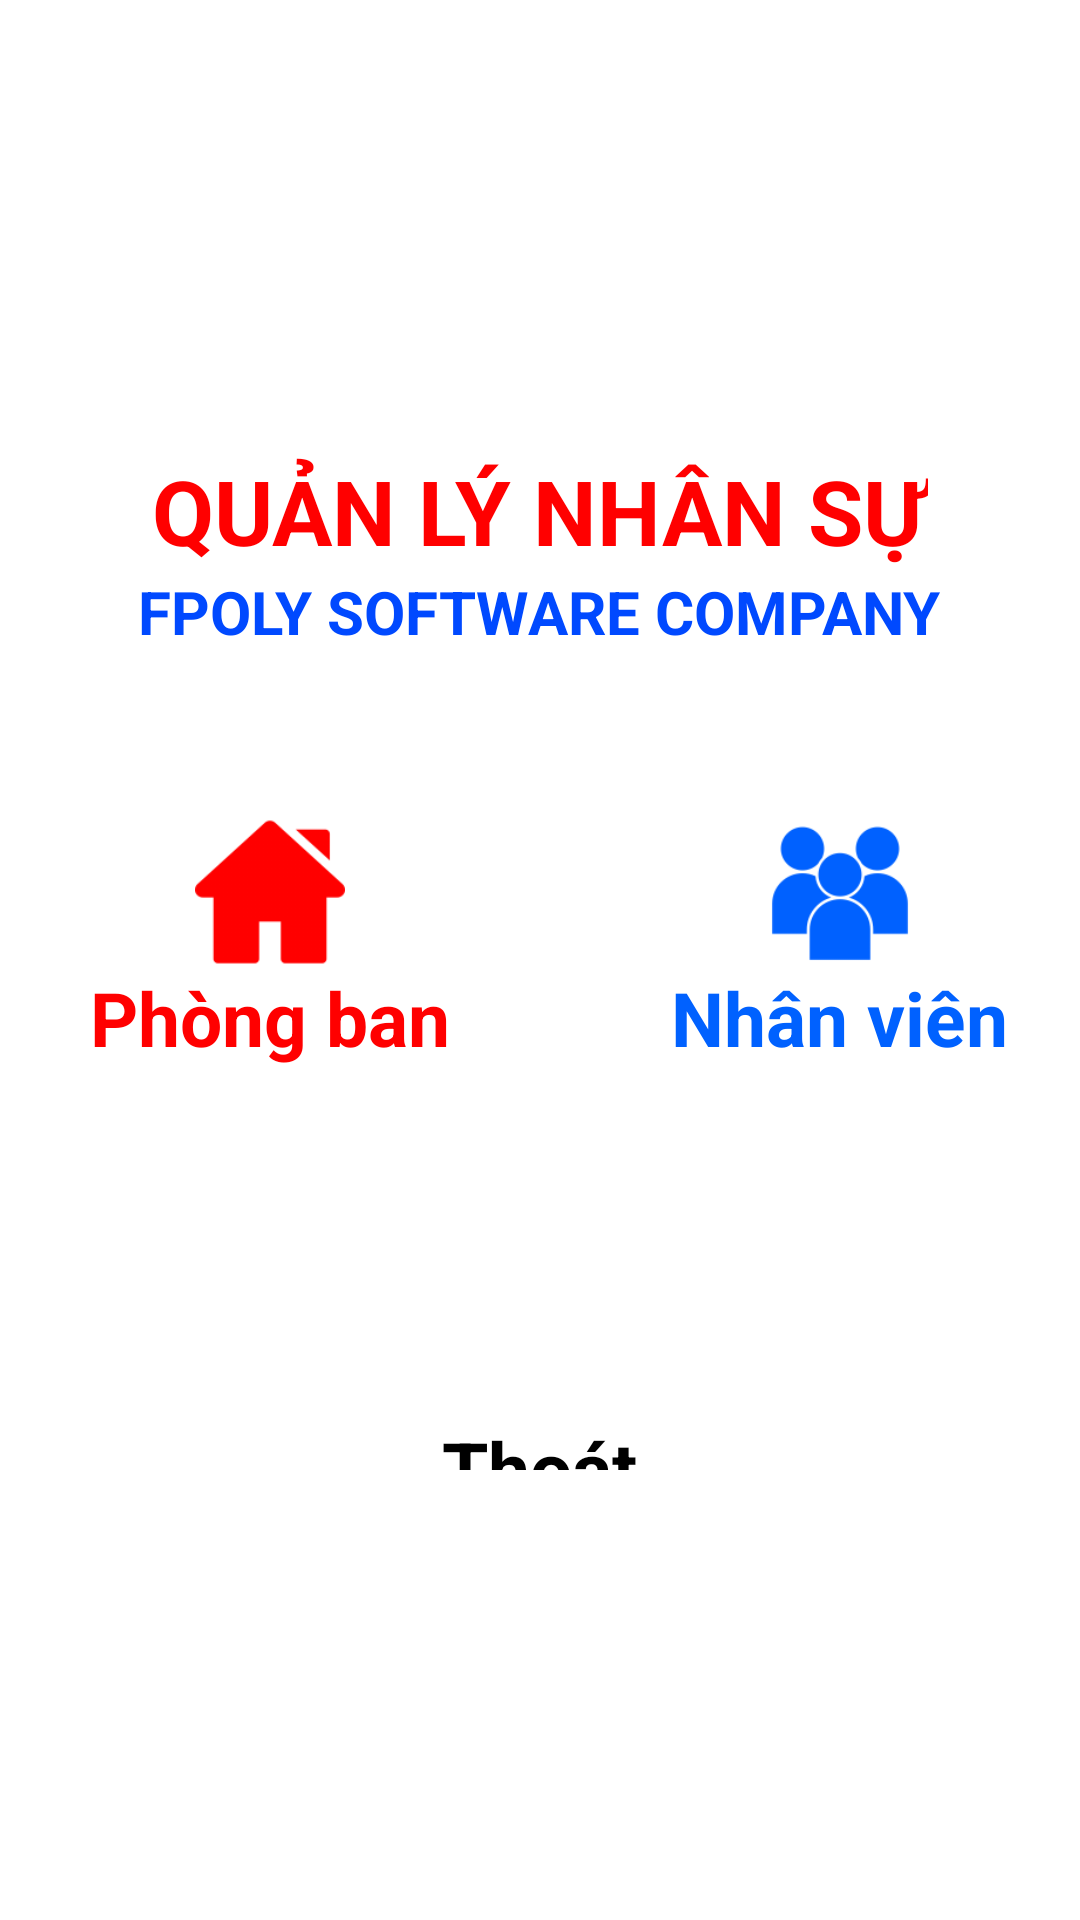

Where to tap for icons on this 1080 x 1920 app screen, as (x,y):
home: (270,892)
